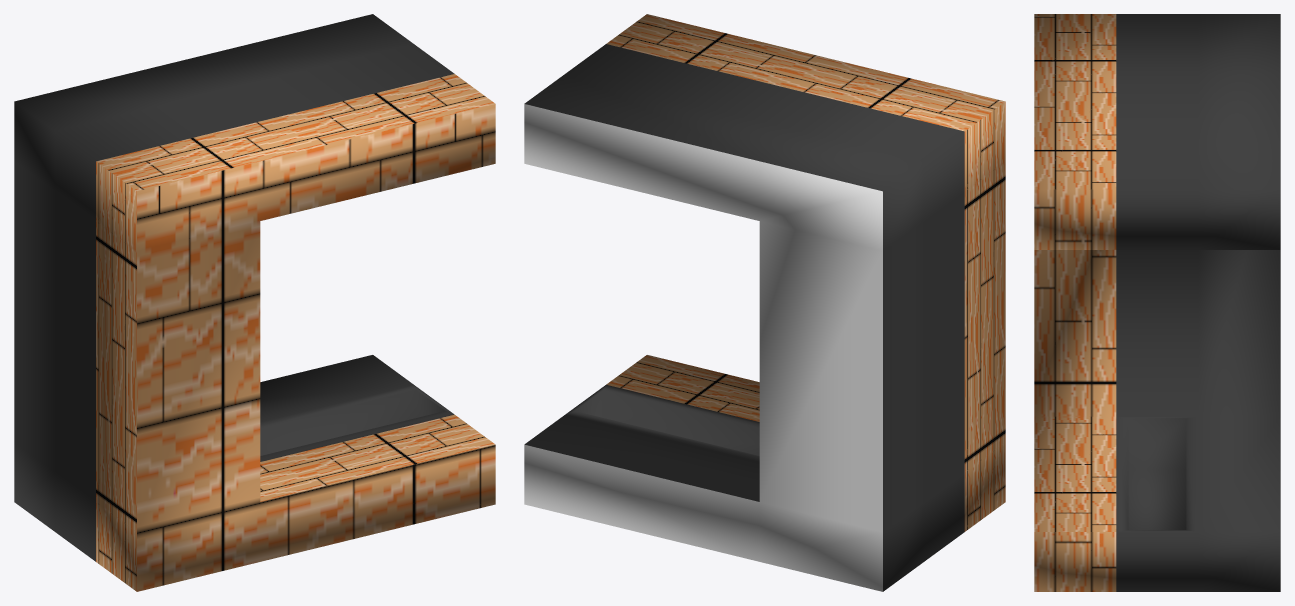
The model's file is MESA COMA TEXTURAS.fbx.
The picture shows the model from 3 angles, left to right: view 1: azimuth 30°, elevation 25°; view 2: azimuth 150°, elevation 25°; view 3: azimuth 270°, elevation 25°; orthographic projection.
Visible parts, largest first — view 1: MESA NORMALLLLL; view 2: MESA NORMALLLLL; view 3: MESA NORMALLLLL.
Boxes of the visible parts, bbox=[...] form: MESA NORMALLLLL: bbox=[14, 14, 495, 591]; MESA NORMALLLLL: bbox=[524, 14, 1005, 591]; MESA NORMALLLLL: bbox=[1034, 14, 1280, 591].
Size of the model in its own units: 9.78 by 10.44 by 5.8.
3 materials, 1 textured.
